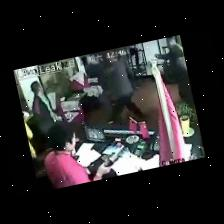person: (45, 122, 110, 188), (105, 58, 144, 123), (31, 81, 62, 122)
